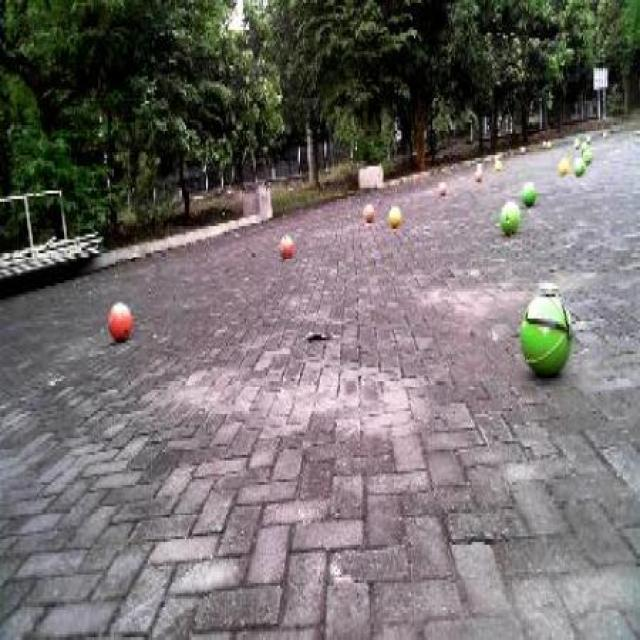buoy: (516, 289, 576, 384), (106, 292, 132, 342), (493, 192, 522, 236), (519, 171, 536, 207), (278, 228, 294, 260), (359, 196, 376, 226), (388, 199, 402, 223)
